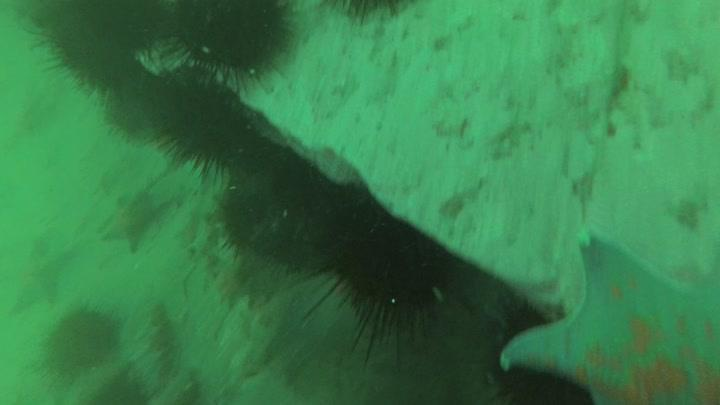urchin: (305, 190, 459, 346), (214, 133, 340, 266), (170, 2, 303, 84), (142, 75, 255, 169), (29, 5, 143, 88)
